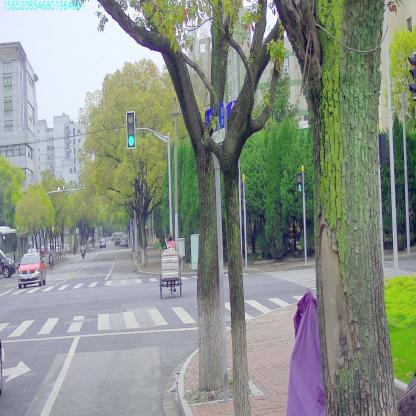traffic-light: (127, 112, 135, 148)
